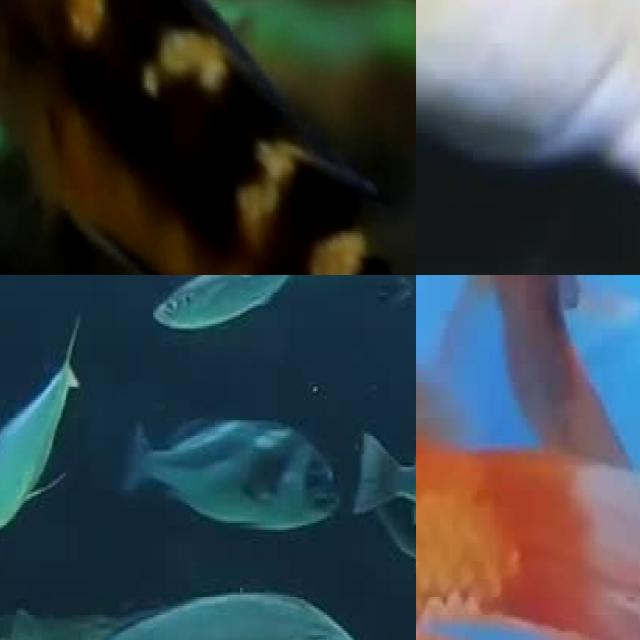fish: (0, 0, 416, 275), (120, 427, 344, 521)
